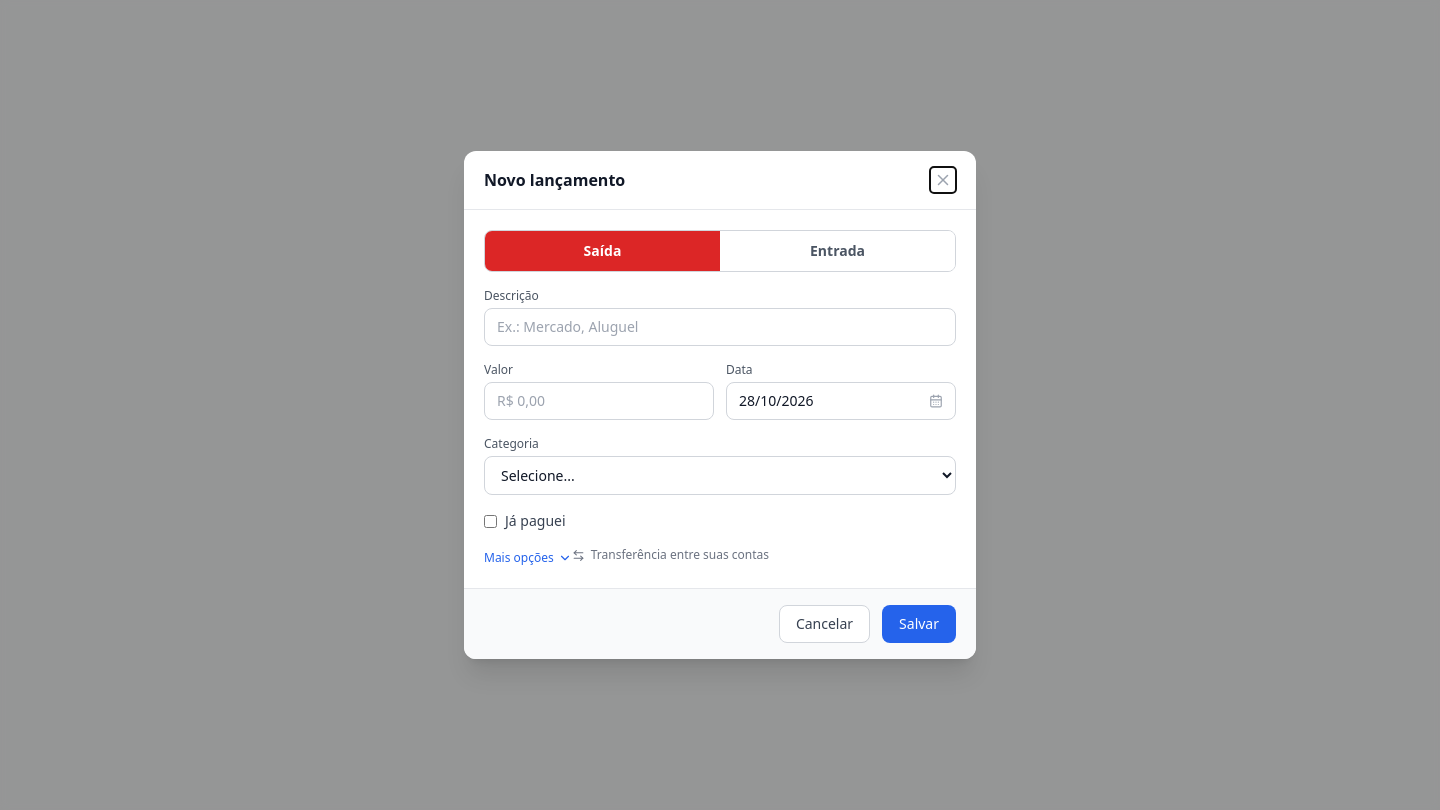
Test case: QuickAddModal › com duas contas, o atalho troca para o formulário de transferência
Click the button "Transferência entre suas contas" at [670, 555], box [572,547,769,563]
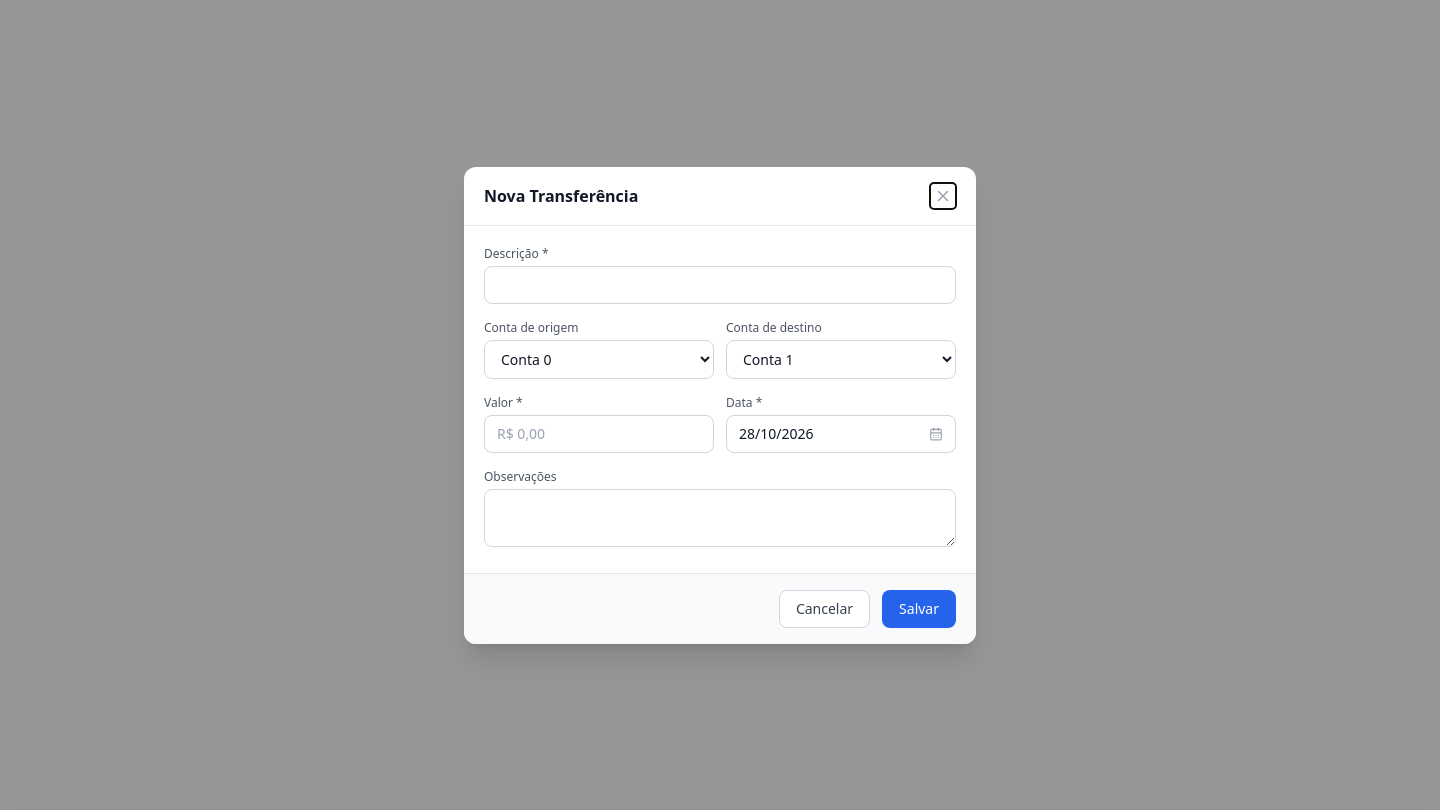
Result: the heading "Nova Transferência" is shown at [484,184,638,208]
